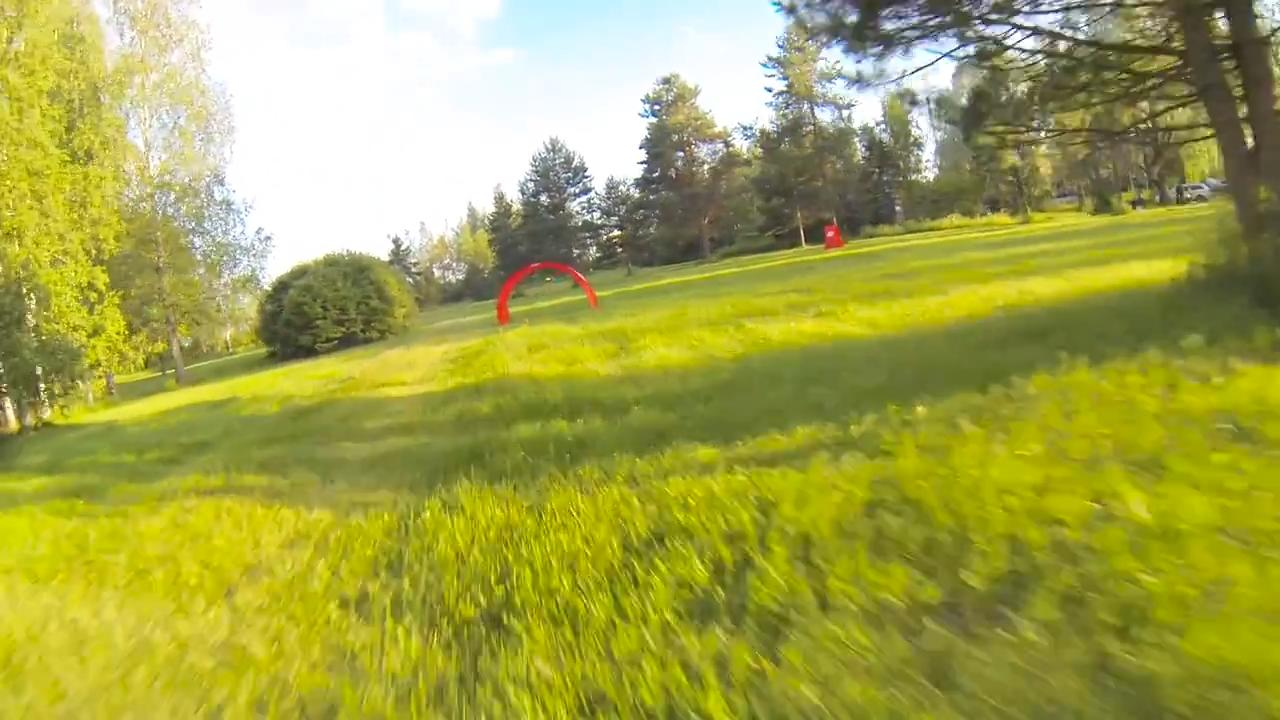gate: (491, 258, 603, 326)
